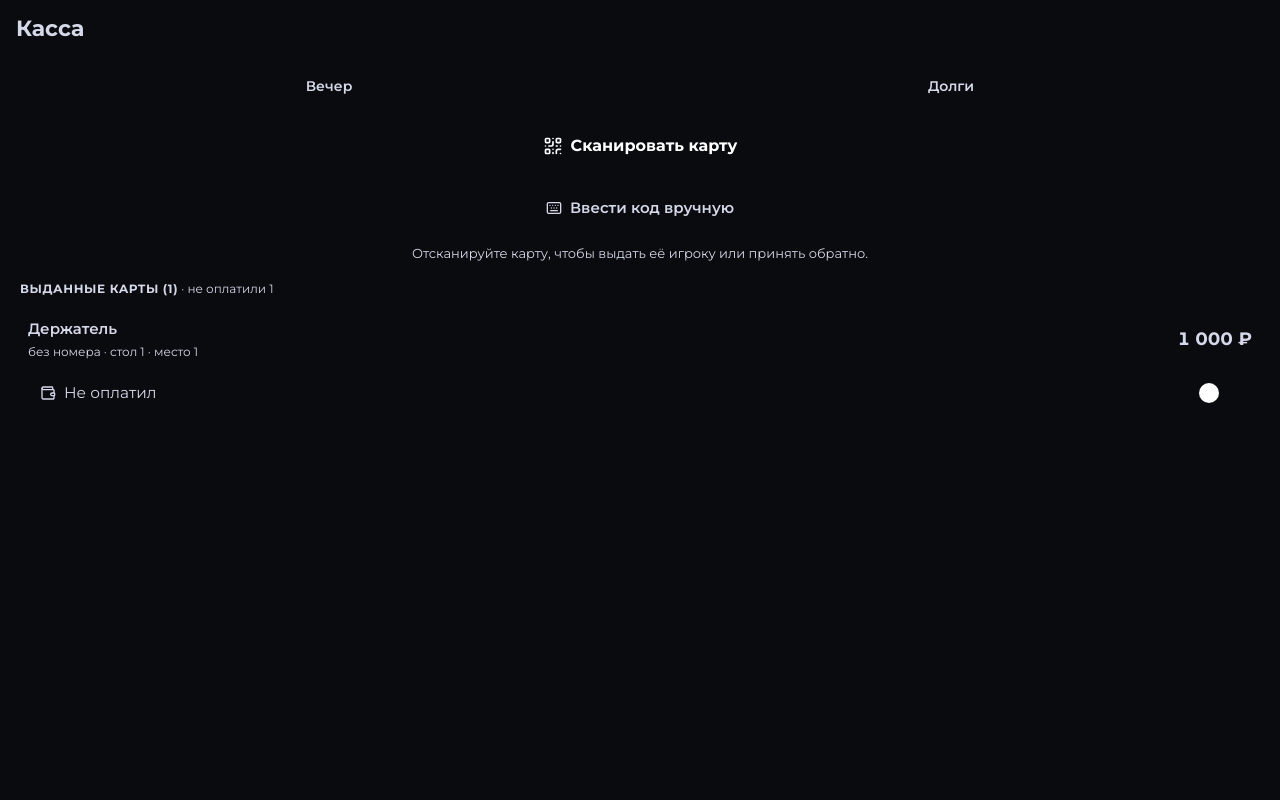
Scenario: a scanned card's bill › offers to scan the next card straight from the bill
Click the button "Ввести код вручную": {"x": 640, "y": 208} [16,184,1264,232]
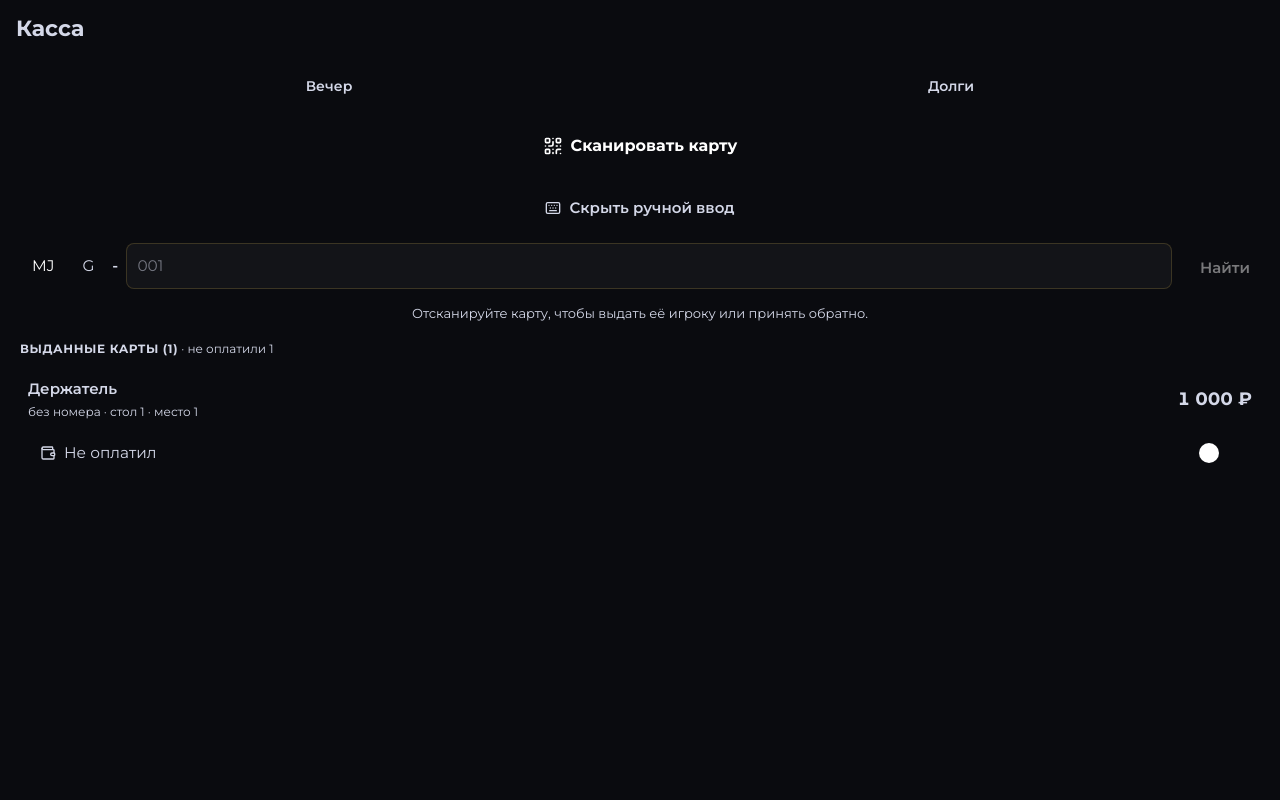
In the field with placeholder "001": {"x": 649, "y": 266} [126,243,1172,289], type "5"
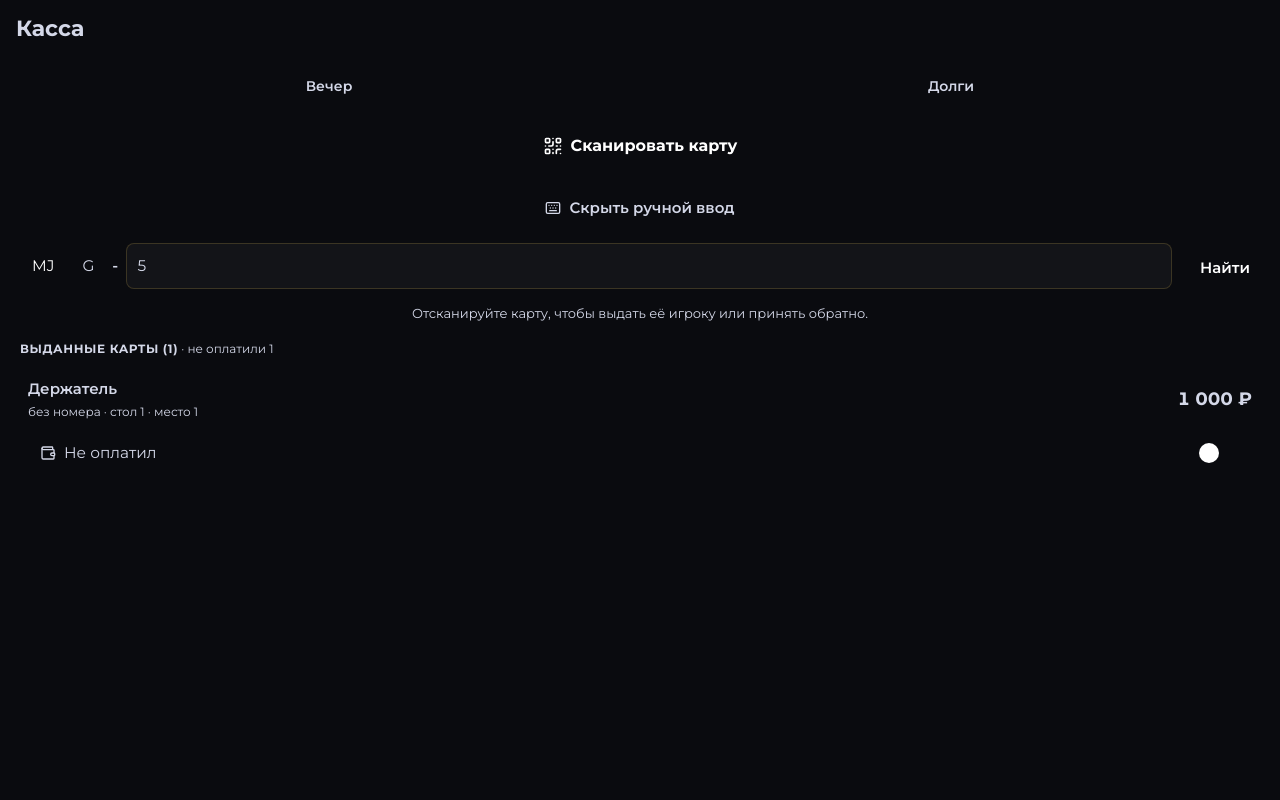
Click the button "Найти": {"x": 1225, "y": 268} [1186,244,1264,292]
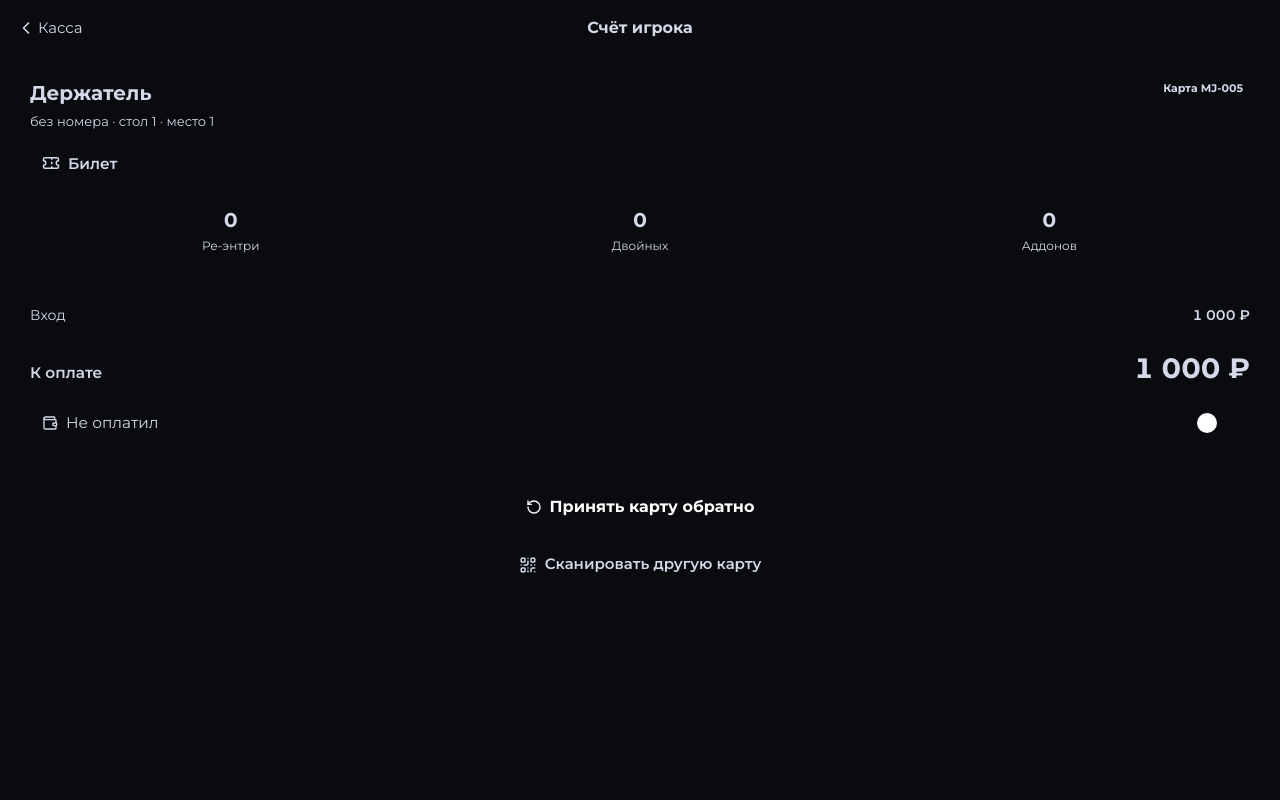
Expected: the button "Принять карту обратно" is shown, [12,480,1268,532]
Expected: the button "Сканировать другую карту" is shown, [12,540,1268,588]
